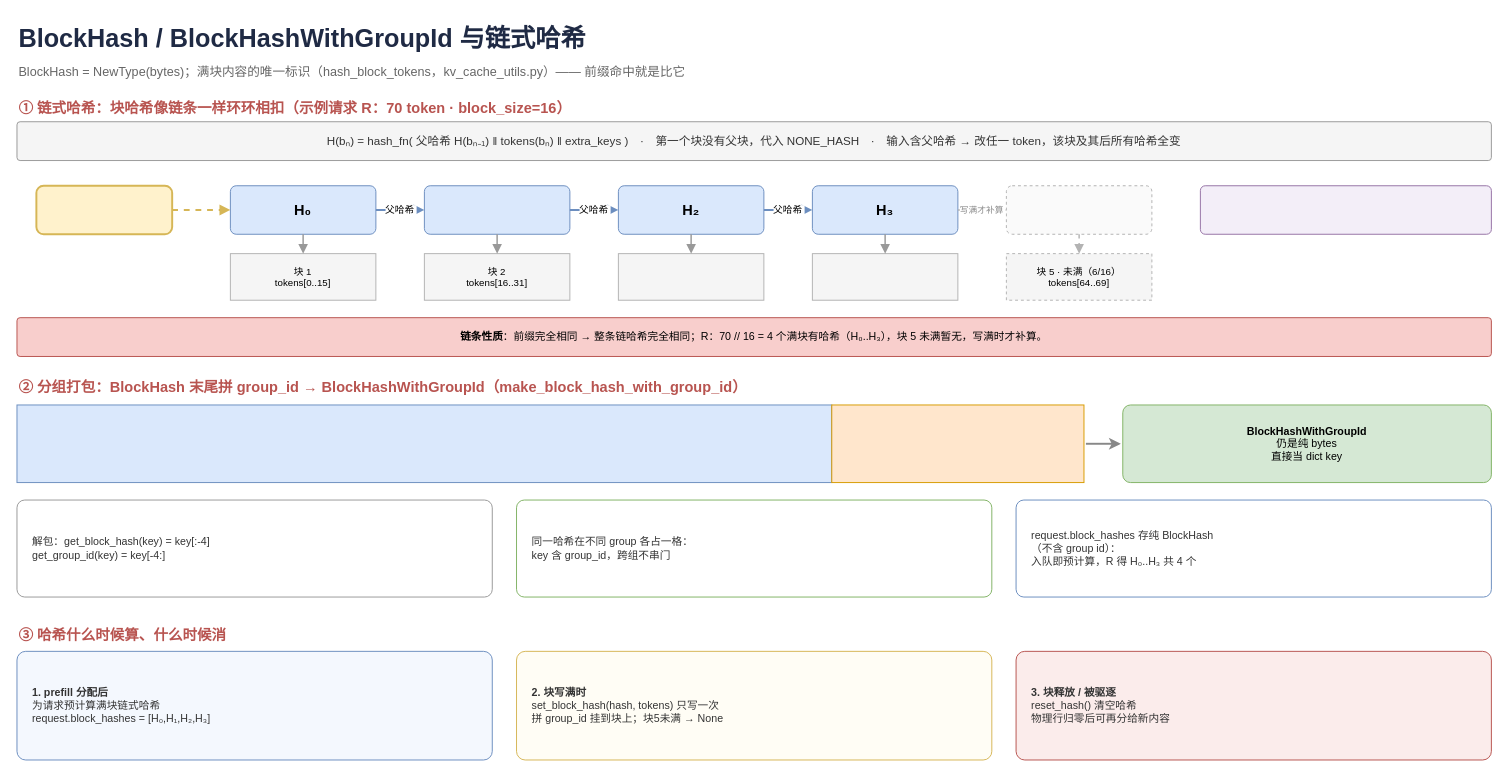
This 1508x777 diagram has some shape labels left out. The centre of each missing label's shape, as x and y in pixels:
group_id 4 字节 big-endian （示例 = 0）: pixel 957 443
H(bₙ) BlockHash 哈希字节主体: pixel 424 443
H₁: pixel 496 209
NONE_HASH 首块的伪造父哈希: pixel 104 209
R 的 block_table [1, 2, 3, 4, 5]: pixel 1345 209
块 3 tokens[32..47]: pixel 690 276
块 4 tokens[48..63]: pixel 884 276
暂无 H₄: pixel 1078 209
